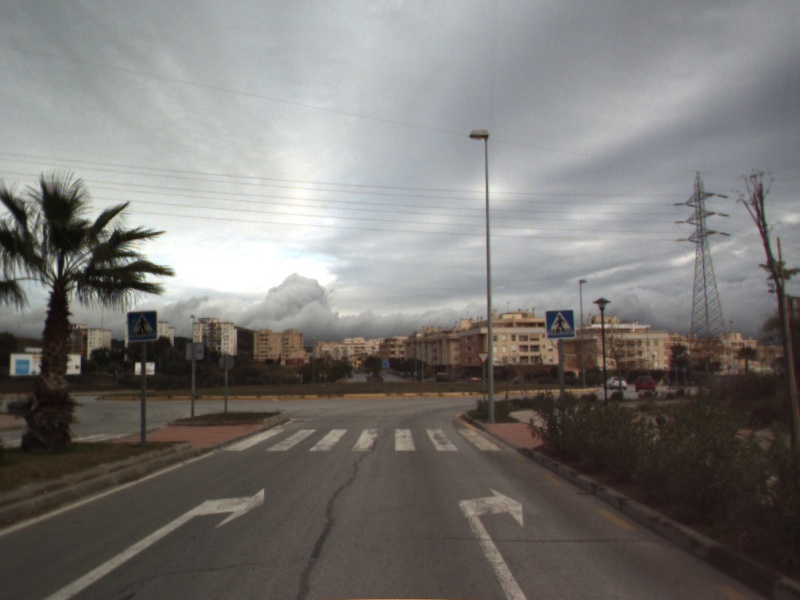RIGHT: (41, 486, 266, 600), (455, 486, 529, 600)
